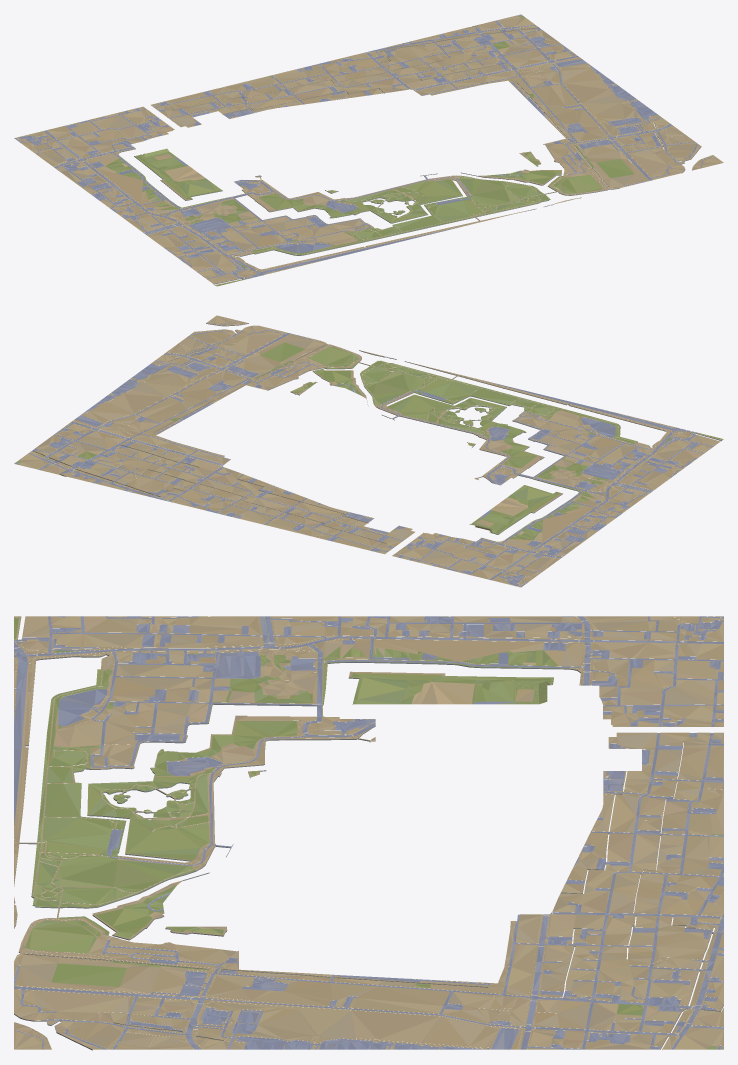
Rendered from ART_EastHikoneSurface.lod.glb.
3 renders of one model, top to bottom at view 1: azimuth 30°, elevation 25°; view 2: azimuth 150°, elevation 25°; view 3: azimuth 270°, elevation 25°, orthographic. The views are drawn at different scales.
Parts seen in each view (by area): view 1: ART_EastHikoneSurface; view 2: ART_EastHikoneSurface; view 3: ART_EastHikoneSurface.
Part boxes in pixels (left/top/right/bottom): ART_EastHikoneSurface: left=14, top=14, right=723, bottom=286; ART_EastHikoneSurface: left=14, top=315, right=723, bottom=587; ART_EastHikoneSurface: left=14, top=616, right=723, bottom=1050.
Bounding box in the file's own units: 1480 × 5.7 × 1025.
